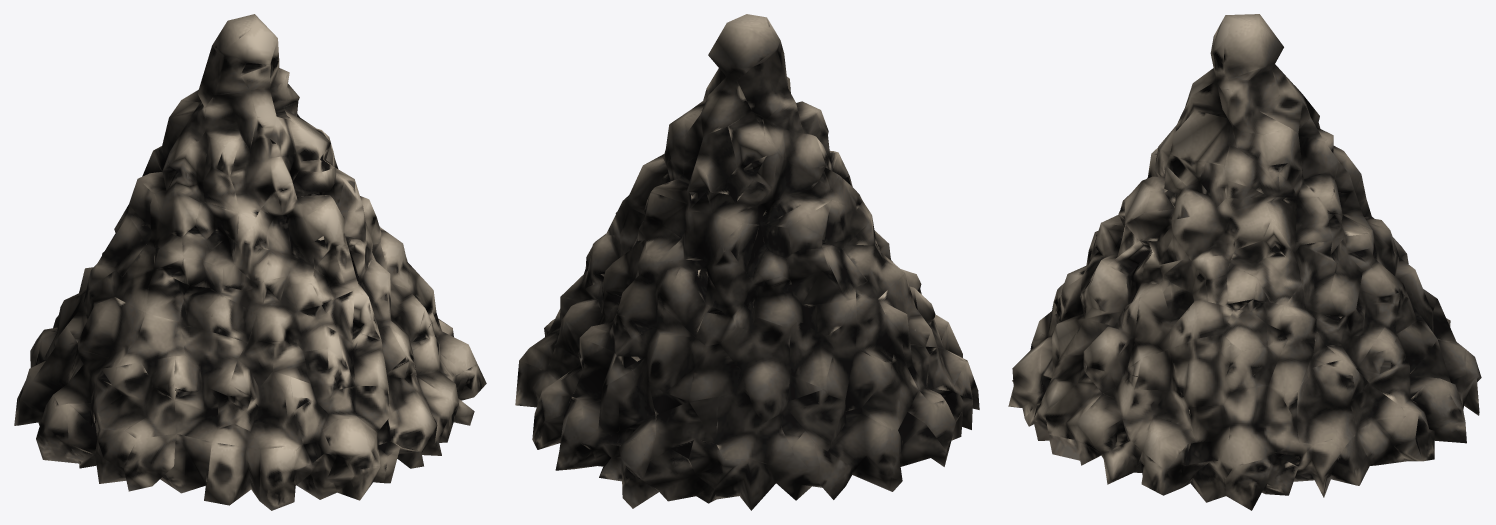
File: skull_pyramid.glb
3 renders of one model, left to right at view 1: azimuth 30°, elevation 25°; view 2: azimuth 150°, elevation 25°; view 3: azimuth 270°, elevation 25°, orthographic.
Size of the model in its own units: 1.97 by 1.86 by 1.99.
Materials: 1 (1 with a texture image).
